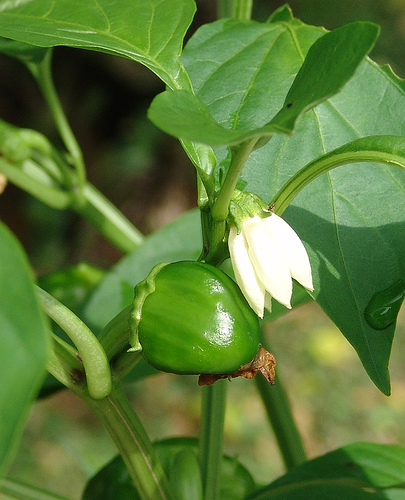capsicum: (115, 255, 278, 385)
